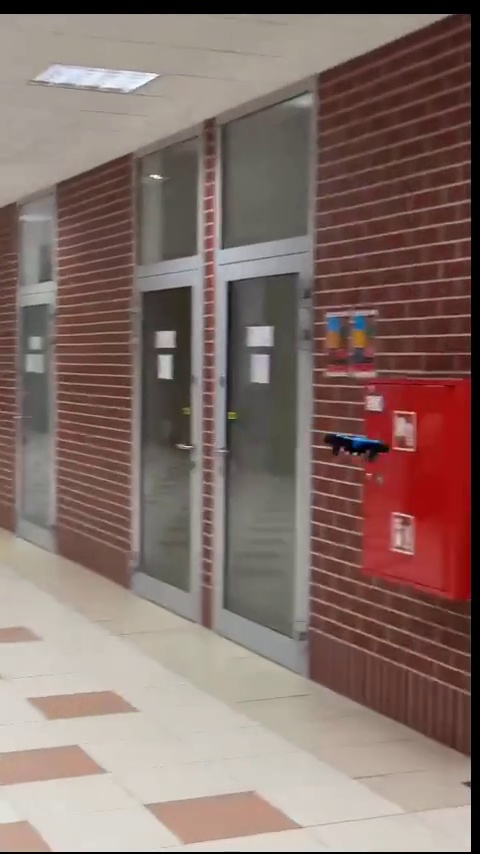drone: (325, 425, 391, 461)
